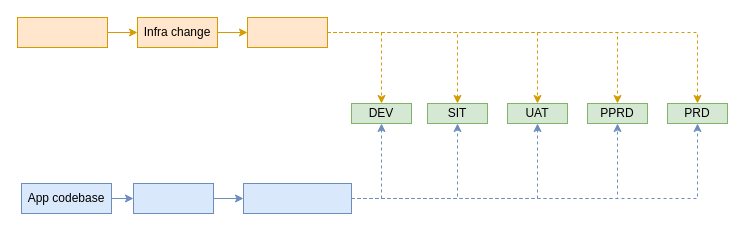
This 745x231 diagram has some shape labels left out. The shapes that lost their labels are listed below. From the top down, each one's centre as x and y in pixels, then its label:
At point (62, 32): "Infra codebase".
At point (287, 32): "CD pipeline".
At point (173, 198): "App change".
At point (297, 198): "App CI-CD pipeline".
